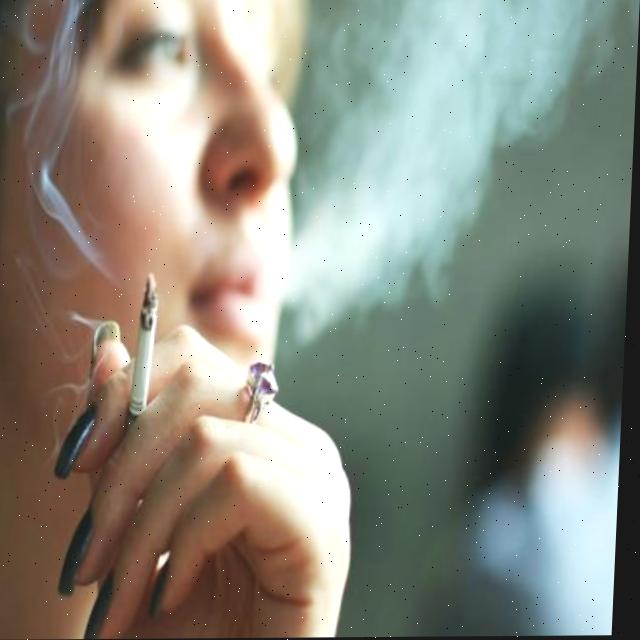cigarette: (132, 272, 164, 422)
